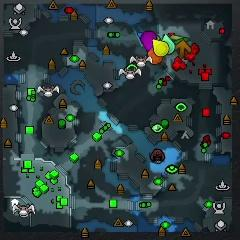p1: (137, 32, 143, 38)
p2: (161, 34, 175, 54)
p3: (141, 31, 156, 51)
p4: (153, 39, 168, 56)
p5: (147, 48, 162, 65)
x2: (169, 35, 182, 40)
x4: (173, 37, 192, 44)
x5: (175, 40, 191, 58)
